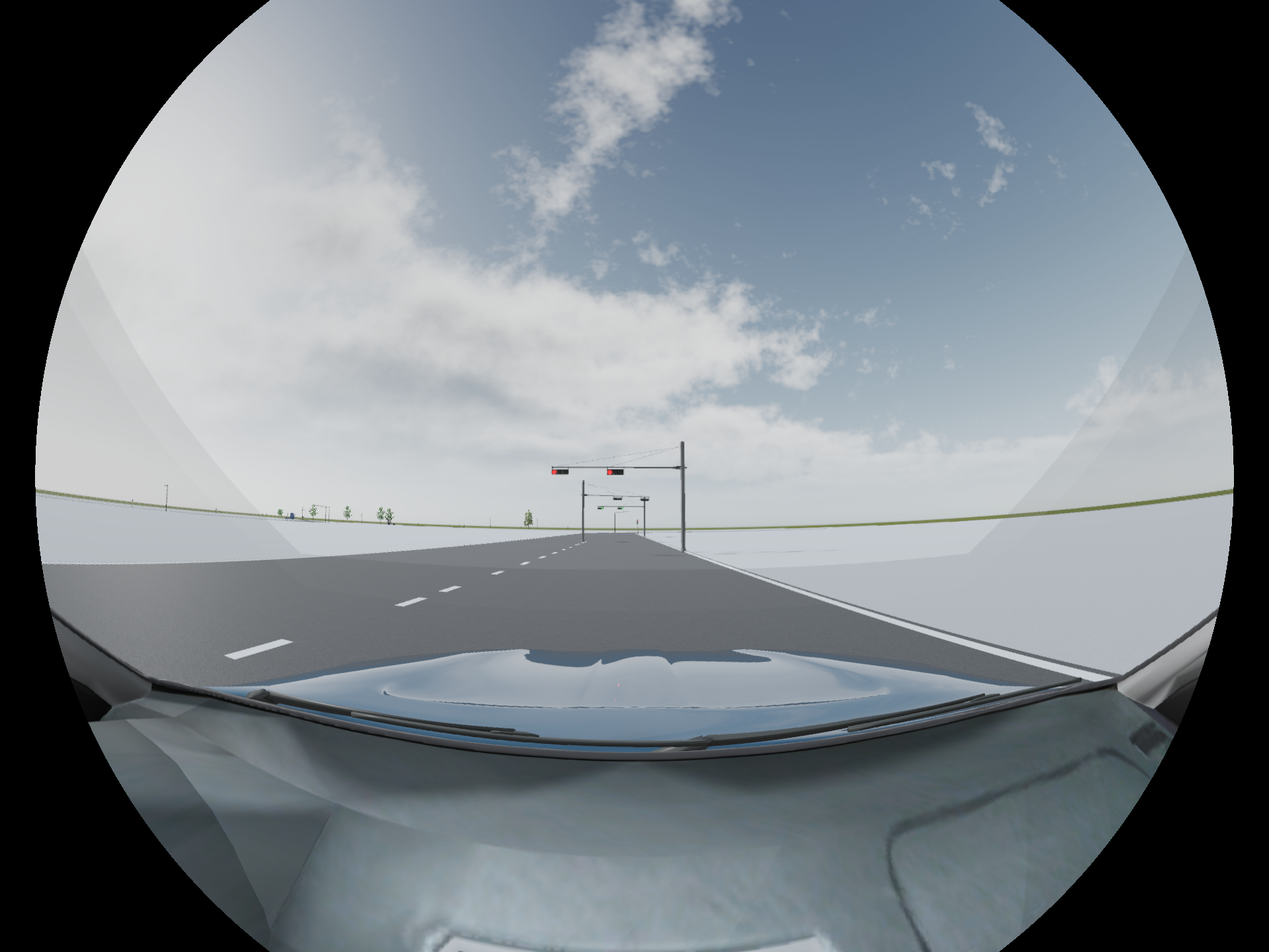Red Light: (551, 466, 571, 479), (605, 466, 626, 478)
